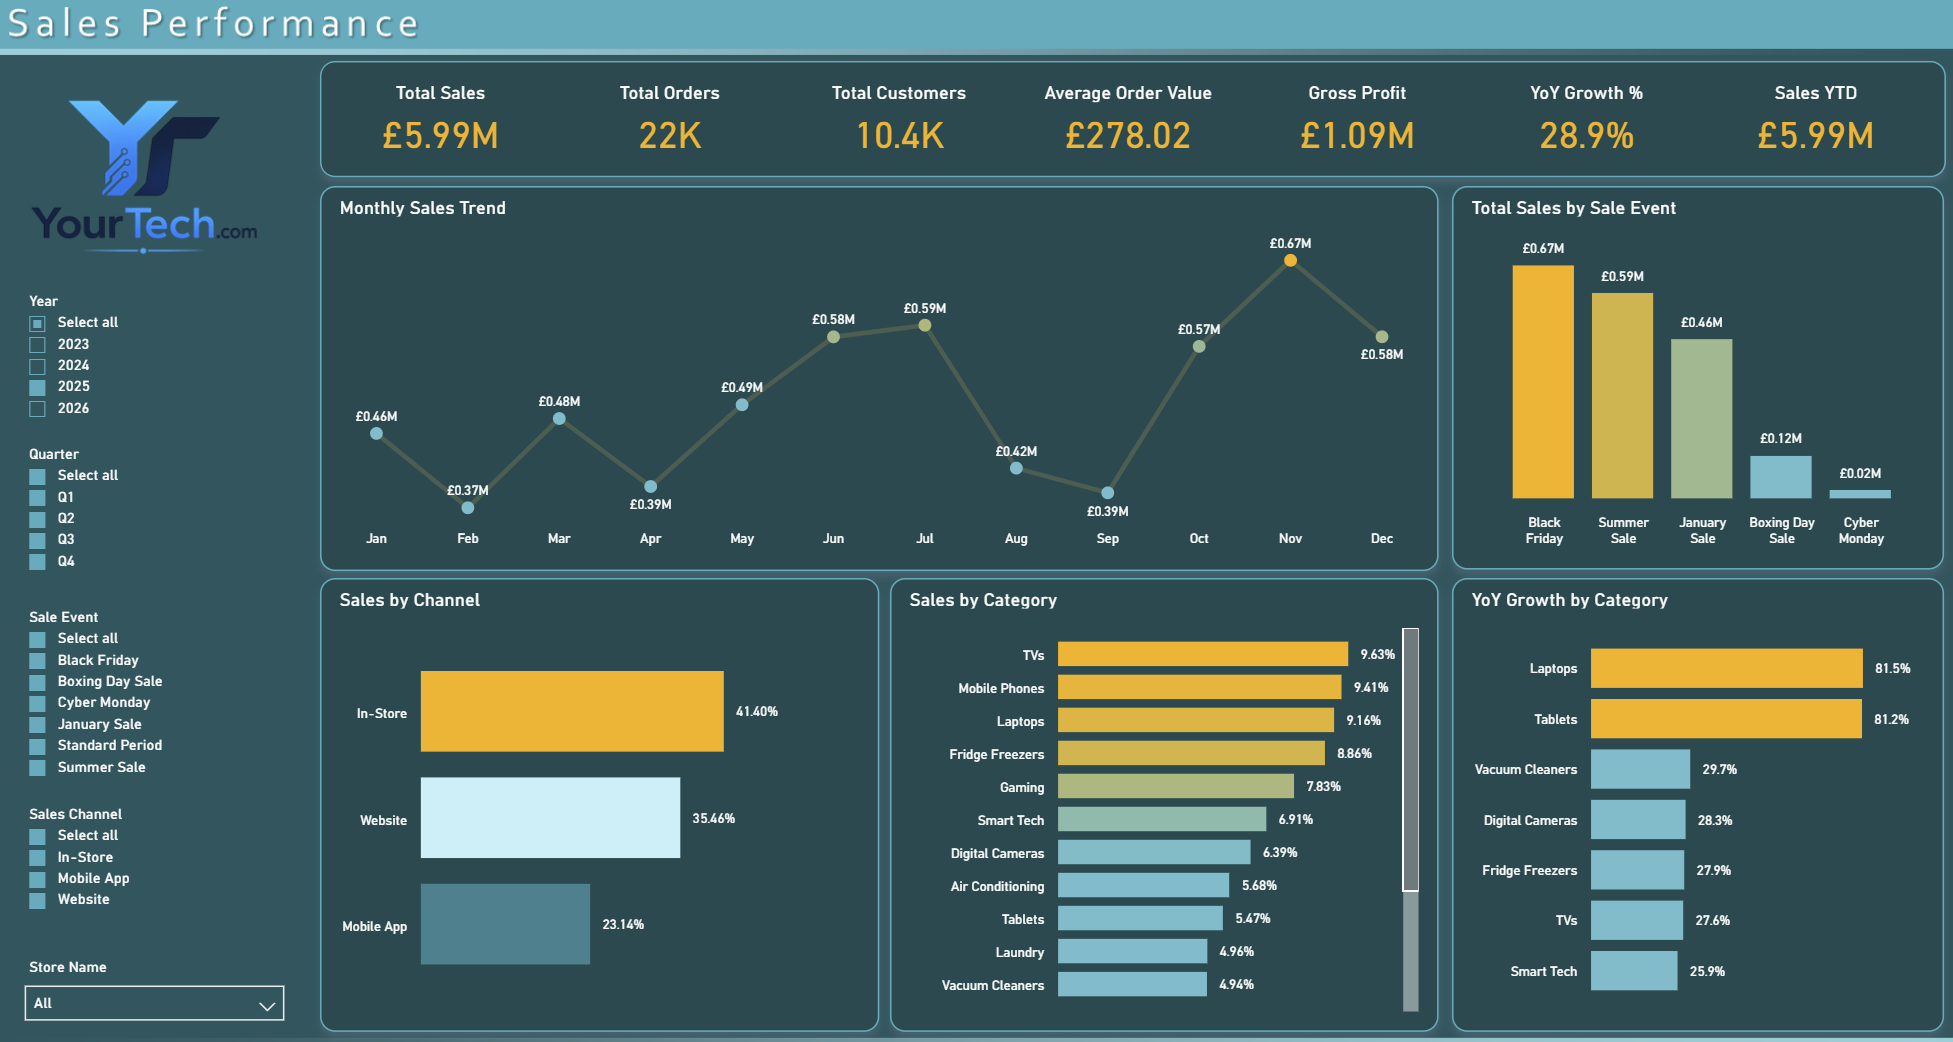

This screenshot's page, from the dashboard's own definition file:
{"tool":"powerbi","page":{"name":"Sales Performance","canvas":[1280,720],"ordinal":1},"visuals":[{"type":"lineChart","title":"Monthly Sales Trend","fields":{"Y":["Sales.Total Sales"],"Category":["dDate.Year","dDate.Quarter","dDate.Month"]},"box":[263.9,123.3,693,251.7],"z":0},{"type":"barChart","title":"Sales by Channel","fields":{"Category":["fSales.Sales_Channel"],"Y":["_Measures.Total Sales"]},"box":[263.7,379.6,339.6,297.1],"z":1000},{"type":"barChart","title":"Sales by Category","fields":{"Category":["Products.Product_Category"],"Y":["Sales.Total Sales"]},"box":[610.6,379.6,346.2,297.1],"z":2000},{"type":"tableEx","title":"Top 10 Products","fields":{"Values":["Products.Product_Name","Sales.Total Sales"]},"box":[963.9,379.6,310.8,297.1],"z":3000},{"type":"clusteredColumnChart","fields":{"Y":["_Measures.Total Sales"],"Category":["dSale Event.Sale_Event_Name"]},"box":[963.8,123.5,310.9,251.1],"z":4000},{"type":"actionButton","box":[0,684.3,100.2,35.2],"z":5000},{"type":"cardVisual","fields":{"Data":["_Measures.Total Sales","_Measures.Total Orders","_Measures.Total Customers","_Measures.Average Order Value","_Measures.Gross Profit","_Measures.YoY Growth %","_Measures.Sales YTD"]},"box":[263.9,41.1,1011,76.4],"z":6000},{"type":"slicer","fields":{"Values":["dDate.Year"]},"box":[13,192.5,179.6,89.4],"z":7000},{"type":"slicer","fields":{"Values":["dDate.Quarter"]},"box":[13,292.8,179.6,95.9],"z":8000},{"type":"slicer","fields":{"Values":["dSale Event.Sale_Event_Name"]},"box":[13,399.5,179.6,117.5],"z":10000},{"type":"slicer","fields":{"Values":["dStores.Store Name"]},"box":[13,628.1,180.3,42.5],"z":13000},{"type":"slicer","fields":{"Values":["fSales.Sales Channel"]},"box":[13,527.9,180.3,79.3],"z":14000}]}

Visuals, with their boxes on the page's 1280x720 design canvas (x1, y1, x2, y2). These are canvas units, not pixel positions in the 1953x1042 screenshot, which may show the page scaled, cropped or inside an application window:
"Monthly Sales Trend" lineChart: region(264, 123, 957, 375)
"Sales by Channel" barChart: region(264, 380, 603, 677)
"Sales by Category" barChart: region(611, 380, 957, 677)
"Top 10 Products" tableEx: region(964, 380, 1275, 677)
clusteredColumnChart - _Measures.Total Sales x dSale Event.Sale_Event_Name: region(964, 124, 1275, 375)
actionButton: region(0, 684, 100, 720)
cardVisual - _Measures.Total Sales x _Measures.Total Orders: region(264, 41, 1275, 118)
slicer - dDate.Year: region(13, 192, 193, 282)
slicer - dDate.Quarter: region(13, 293, 193, 389)
slicer - dSale Event.Sale_Event_Name: region(13, 400, 193, 517)
slicer - dStores.Store Name: region(13, 628, 193, 671)
slicer - fSales.Sales Channel: region(13, 528, 193, 607)
